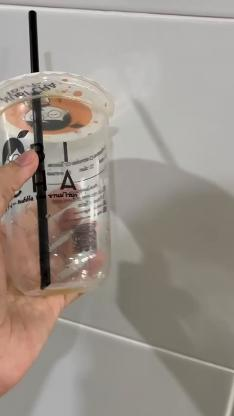Plastic Cup: (0, 72, 114, 296)
